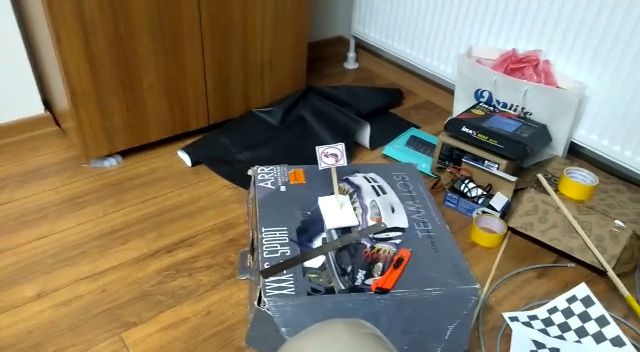sola_donulmez: (319, 143, 342, 168)
